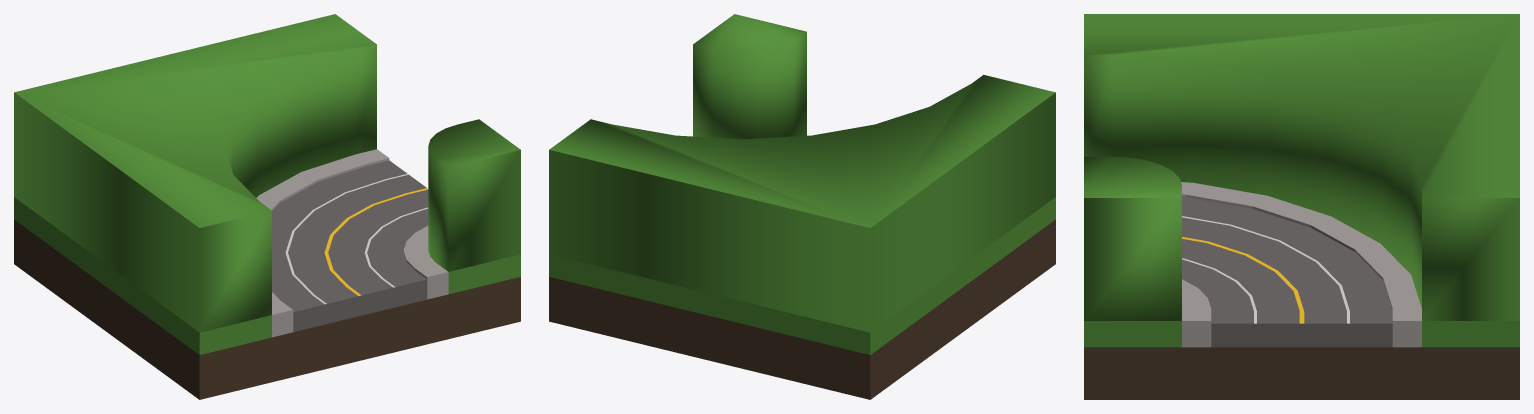
The model's file is curveroad_edited.fbx.
The picture shows the model from 3 angles, left to right: view 1: azimuth 30°, elevation 25°; view 2: azimuth 150°, elevation 25°; view 3: azimuth 270°, elevation 25°; orthographic projection. The views are drawn at different scales.
Visible parts, largest first — view 1: Wall, tile-mainroad-curve.001, Wall-2; view 2: Wall, tile-mainroad-curve.001, Wall-2; view 3: Wall, tile-mainroad-curve.001, Wall-2.
Part boxes in pixels (x1,y1,x2,y2): Wall: (14,14,376,332); tile-mainroad-curve.001: (14,149,520,399); Wall-2: (428,119,520,271); Wall: (549,74,1055,332); tile-mainroad-curve.001: (549,197,1055,399); Wall-2: (693,14,806,139); Wall: (1084,14,1519,320); tile-mainroad-curve.001: (1084,182,1519,399); Wall-2: (1084,156,1181,320).
Bounding box in the file's own units: 30 × 15.33 × 30.
